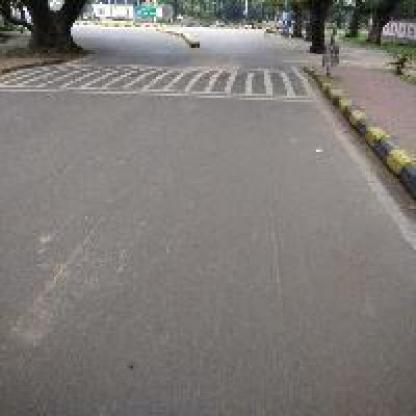Speed Bump: (4, 56, 312, 98)
